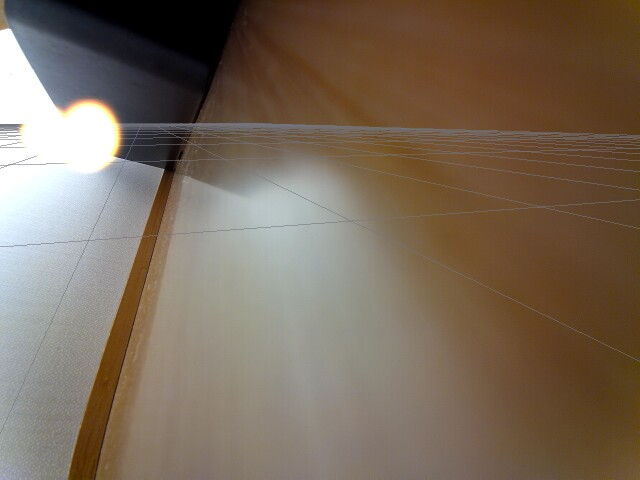firebig: (60, 86, 121, 172)
